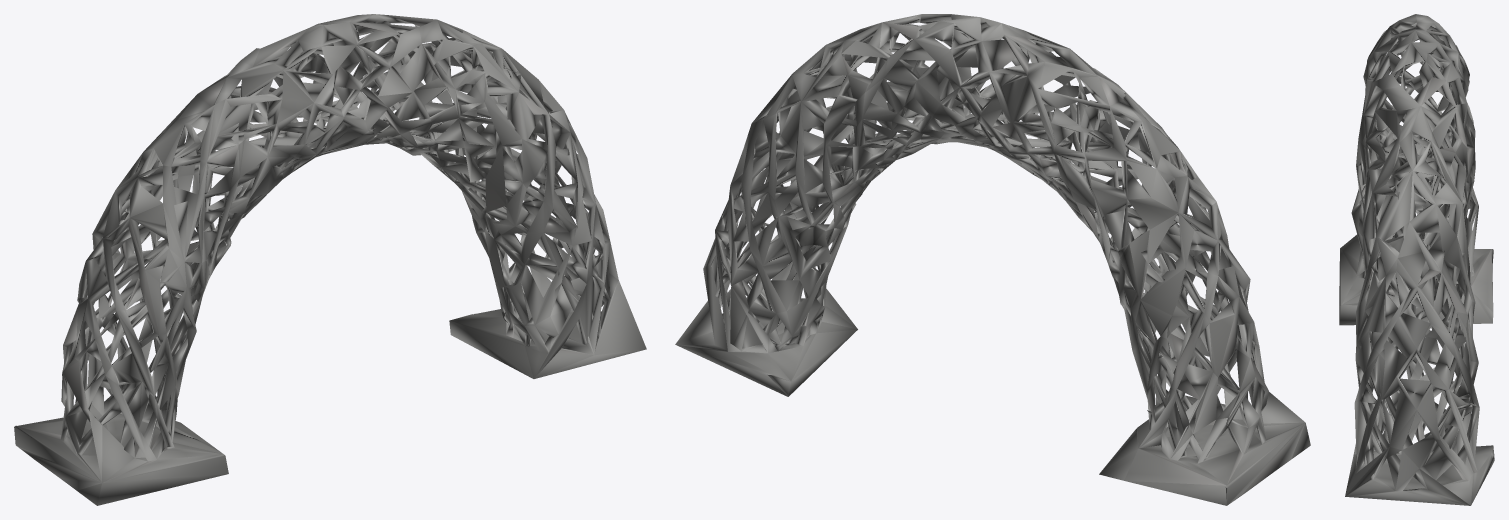
The model's file is art4.glb.
3 renders of one model, left to right at view 1: azimuth 30°, elevation 25°; view 2: azimuth 150°, elevation 25°; view 3: azimuth 270°, elevation 25°, orthographic. The views are drawn at different scales.
Visible parts, largest first — view 1: LO.001; view 2: LO.001; view 3: LO.001.
Boxes of the visible parts, left/top/right/bottom form: LO.001: left=14, top=14, right=646, bottom=505; LO.001: left=675, top=14, right=1310, bottom=505; LO.001: left=1339, top=14, right=1494, bottom=505.
Size of the model in its own units: 1.9 by 1.24 by 0.4909.
1 material, 1 textured.
